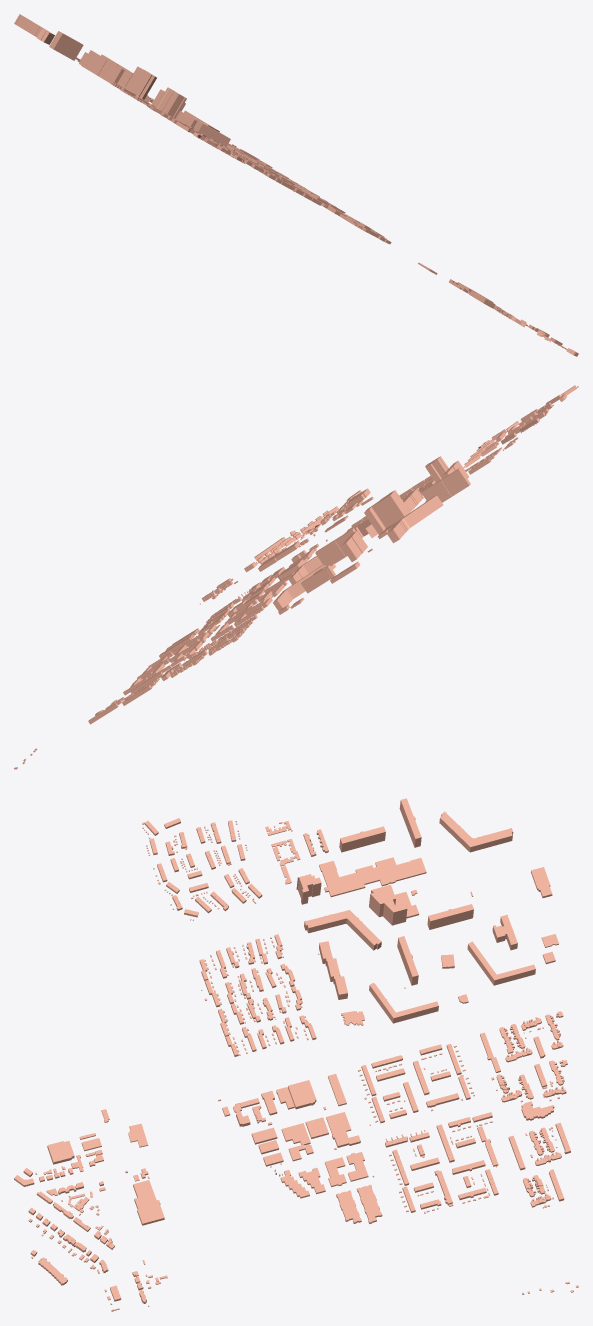
3 renders of one model, top to bottom at view 1: azimuth 30°, elevation 25°; view 2: azimuth 150°, elevation 25°; view 3: azimuth 270°, elevation 25°, orthographic. The views are drawn at different scales.
Bounding box in the file's own units: 1009 × 780 × 1234.
